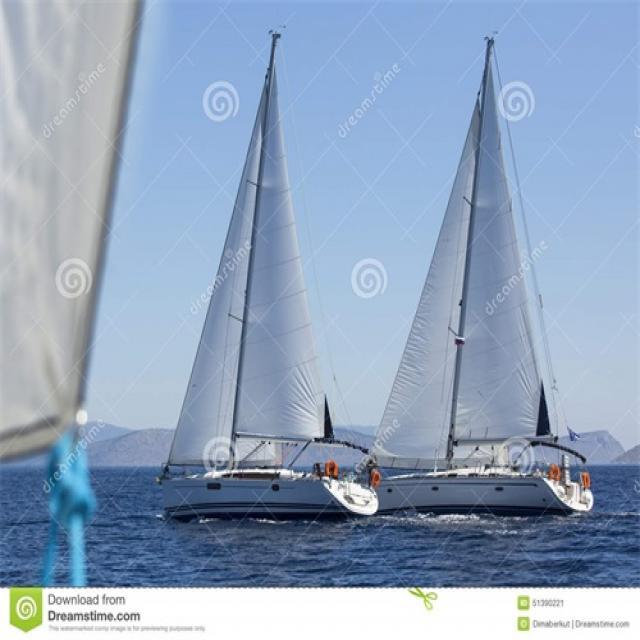Ship: (164, 21, 388, 526), (1, 1, 190, 598), (376, 30, 588, 518)
